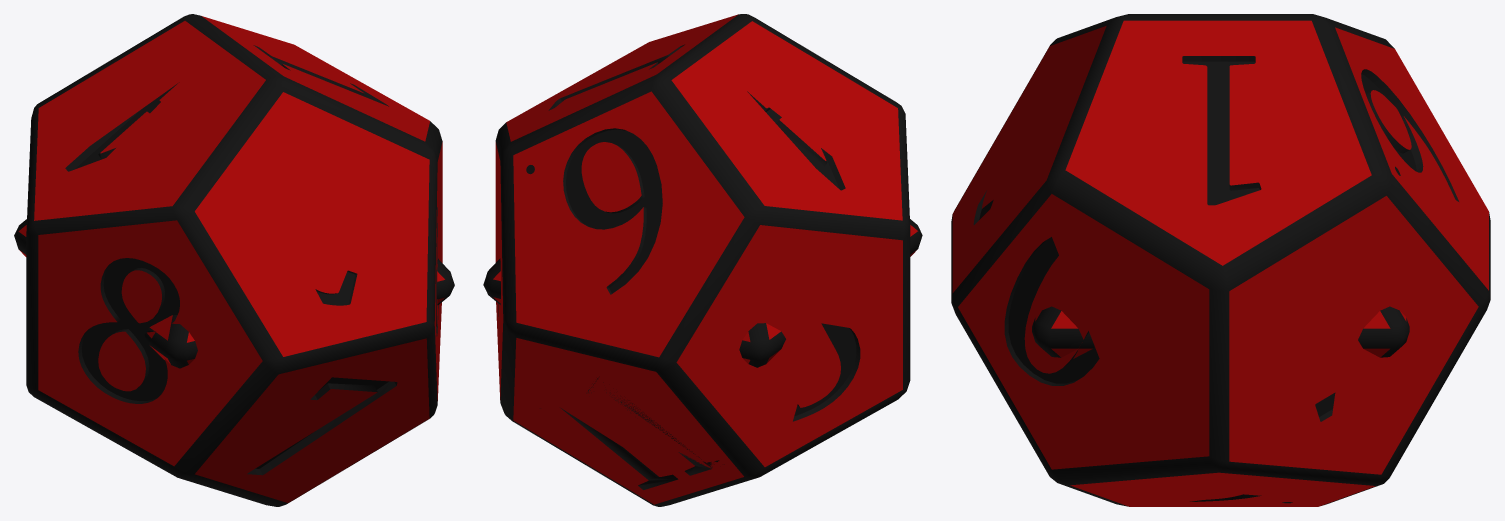
File: Dice_D10.fbx
The picture shows the model from 3 angles, left to right: view 1: azimuth 30°, elevation 25°; view 2: azimuth 150°, elevation 25°; view 3: azimuth 270°, elevation 25°; orthographic projection. The views are drawn at different scales.
Parts seen in each view (by area): view 1: D12, D8; view 2: D12, D8; view 3: D12, D8.
Part boxes in pixels (<box>): D12: <box>26,14,442,506</box>; D8: <box>14,219,454,368</box>; D12: <box>495,14,910,506</box>; D8: <box>483,219,922,367</box>; D12: <box>951,14,1490,506</box>; D8: <box>1032,306,1409,358</box>.
Size of the model in its own units: 394 by 394 by 394.
